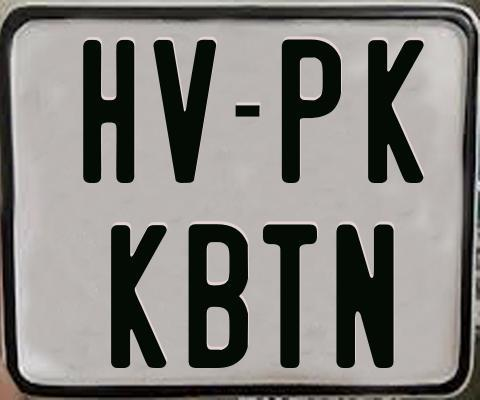B: (187, 224, 253, 371)
H: (80, 37, 132, 180)
K: (108, 224, 169, 371), (367, 37, 424, 180)
N: (335, 221, 399, 369)
P: (279, 36, 343, 186)
T: (262, 221, 322, 369)
V: (152, 40, 217, 184)
